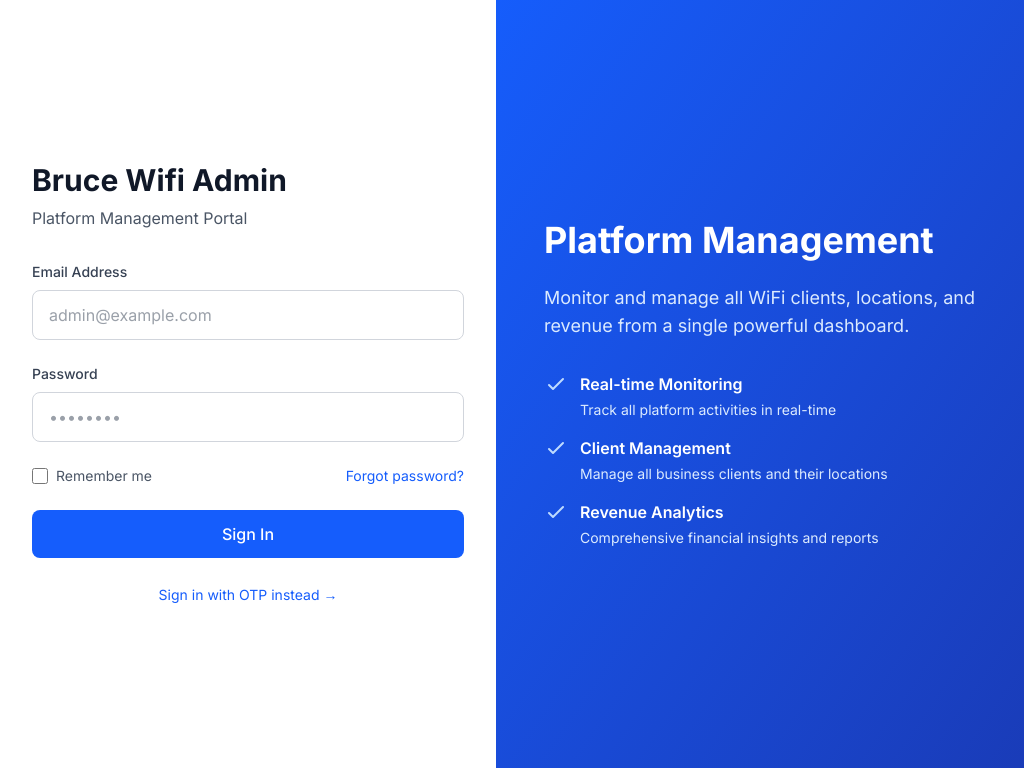
Test case: LoginPage › shows error message on failed login
Type "admin@test.com" into the field labelled "Email Address" at (248, 315), box [32, 290, 464, 340]
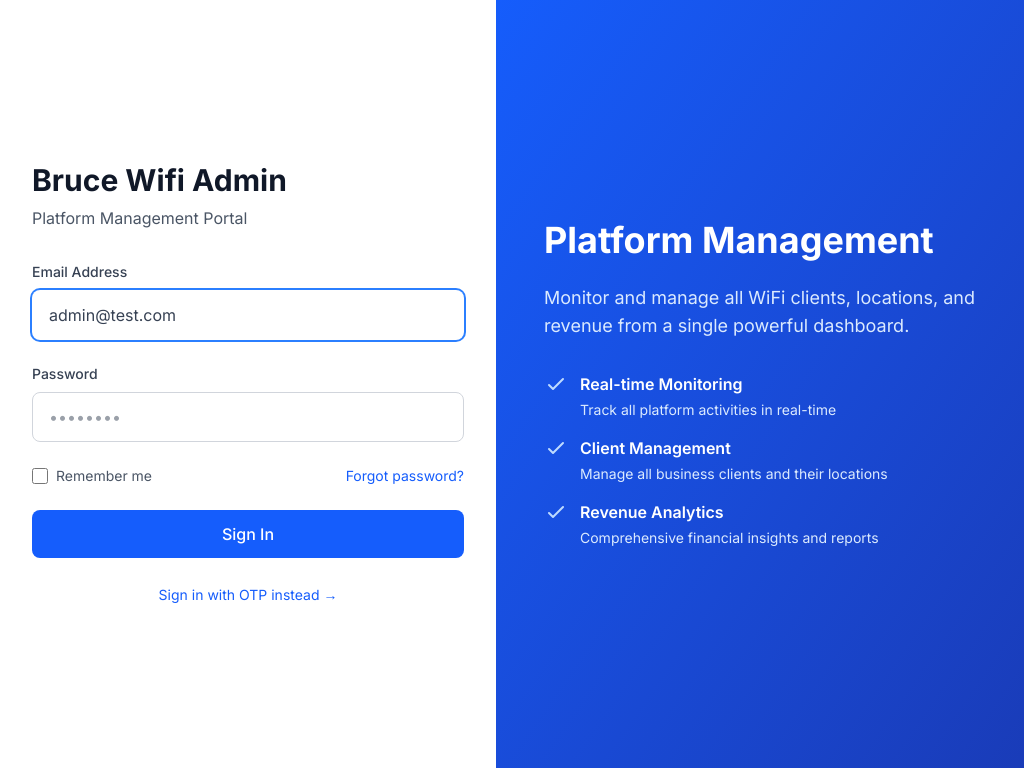
Type "wrong" into the password field labelled "Password" at (248, 417), box [32, 392, 464, 442]
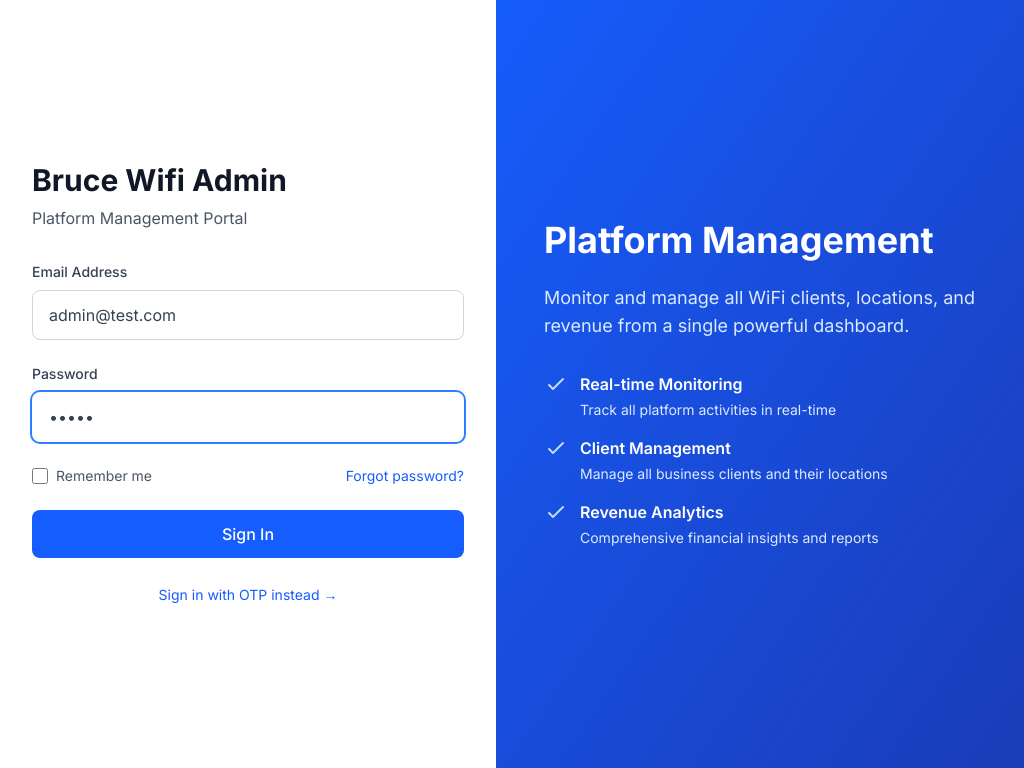
Click the button "Sign In" at (248, 534), box [32, 510, 464, 558]
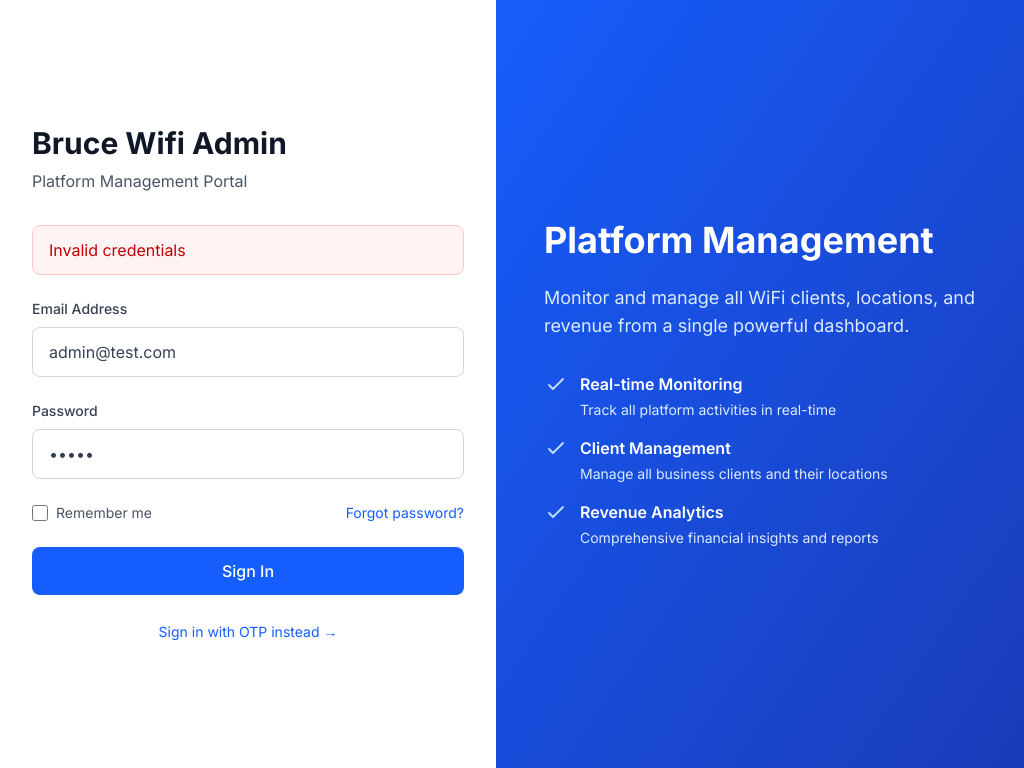
Check: the text "Invalid credentials" is shown, box [32, 225, 464, 275]
